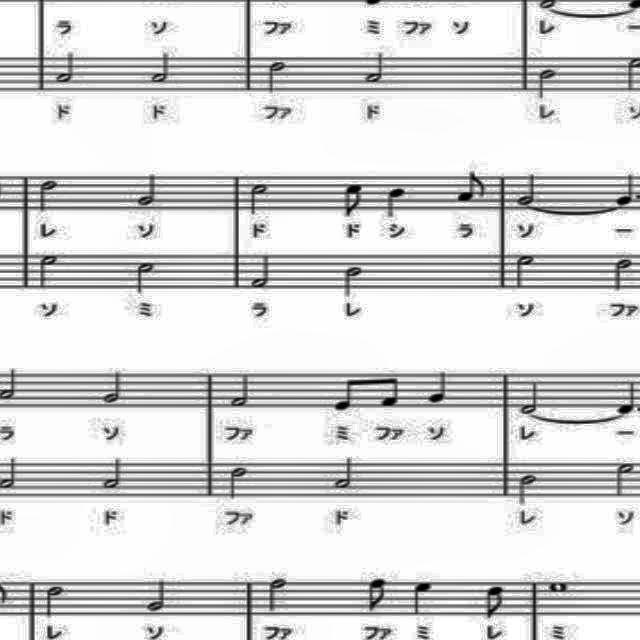Eighth-note: (332, 369, 368, 417), (372, 364, 404, 416), (453, 168, 491, 208), (338, 178, 369, 218), (365, 574, 391, 614), (484, 584, 508, 620)
Full-note: (544, 578, 572, 594)
Half-note: (242, 250, 282, 296), (134, 163, 166, 217), (606, 458, 638, 506), (227, 366, 257, 414), (262, 570, 294, 614), (338, 262, 374, 300), (510, 471, 546, 509), (516, 377, 548, 419), (33, 252, 63, 296), (48, 50, 84, 86), (141, 46, 173, 86), (242, 180, 274, 220), (509, 251, 538, 293), (222, 463, 254, 501), (34, 175, 62, 218), (96, 366, 124, 409), (132, 254, 160, 296), (534, 64, 562, 104), (96, 454, 124, 494), (332, 453, 360, 492), (361, 50, 391, 86), (39, 580, 67, 618), (514, 170, 542, 208), (262, 56, 290, 92), (142, 571, 166, 613), (612, 256, 636, 296)
Quarter-note: (382, 181, 411, 219), (426, 370, 454, 408), (410, 579, 438, 617)
